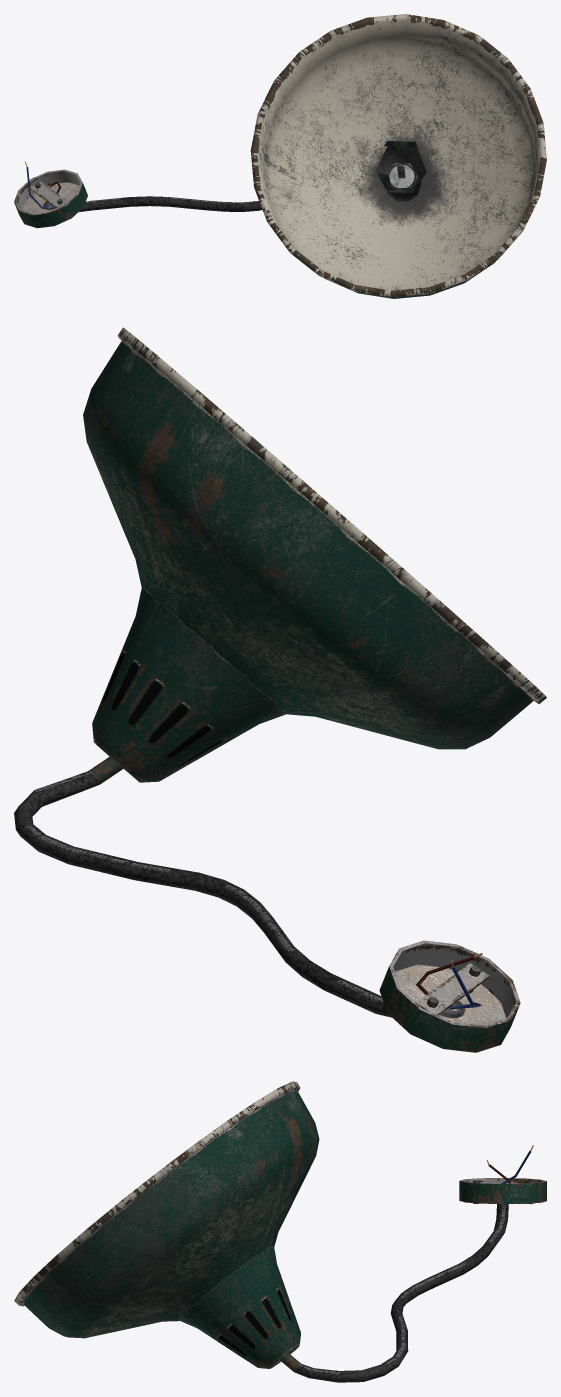
Rendered from LampGymBrokenB.FBX.
3 views of the same model, one above another, from view 1: azimuth 30°, elevation 25°; view 2: azimuth 150°, elevation 25°; view 3: azimuth 270°, elevation 25° (orthographic). The views are drawn at different scales.
Parts seen in each view (by area): view 1: LampGymBrokenB_LOD0; view 2: LampGymBrokenB_LOD0; view 3: LampGymBrokenB_LOD0.
Part boxes in pixels (left/top/right/bottom): LampGymBrokenB_LOD0: left=14, top=14, right=546, bottom=298; LampGymBrokenB_LOD0: left=14, top=327, right=546, bottom=1052; LampGymBrokenB_LOD0: left=14, top=1081, right=546, bottom=1382.
Size of what is drawn, in the model's own units: 68.5 by 39.76 by 72.98.
